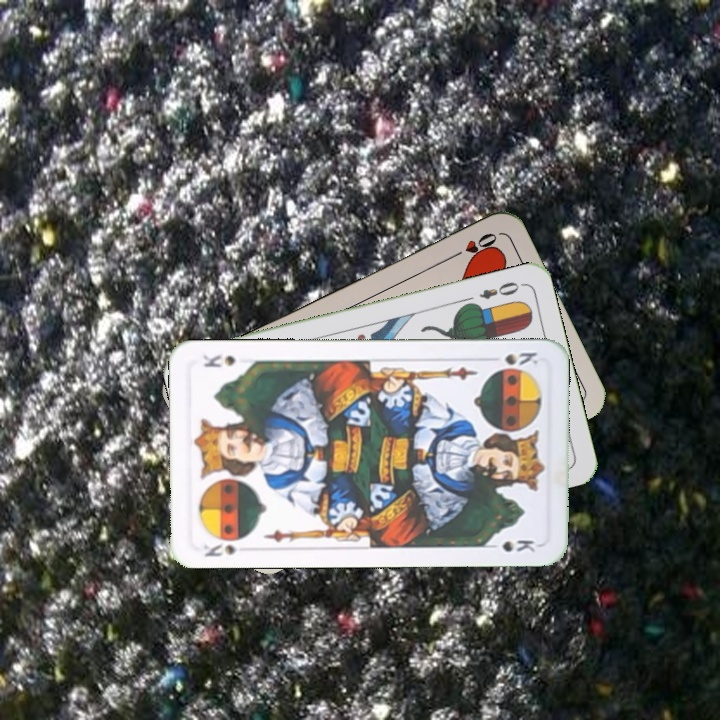EO: (475, 277, 522, 302)
HO: (445, 229, 500, 262)
SK: (500, 348, 541, 368), (199, 540, 239, 560)
